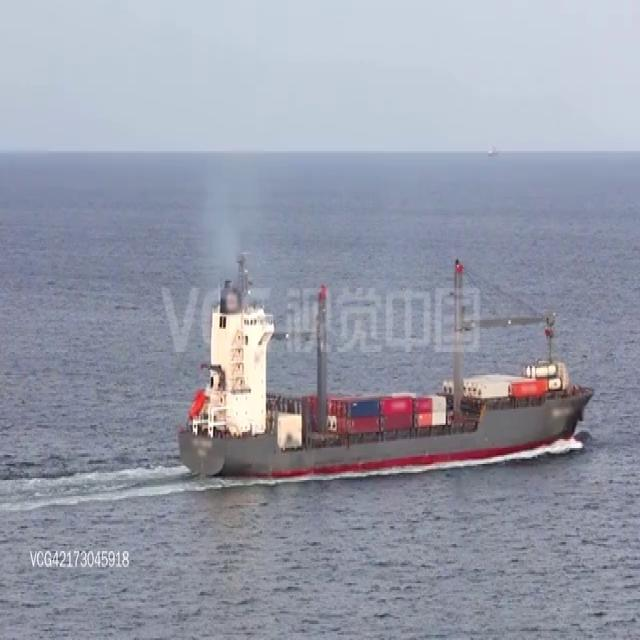cargoship: (175, 245, 586, 472)
